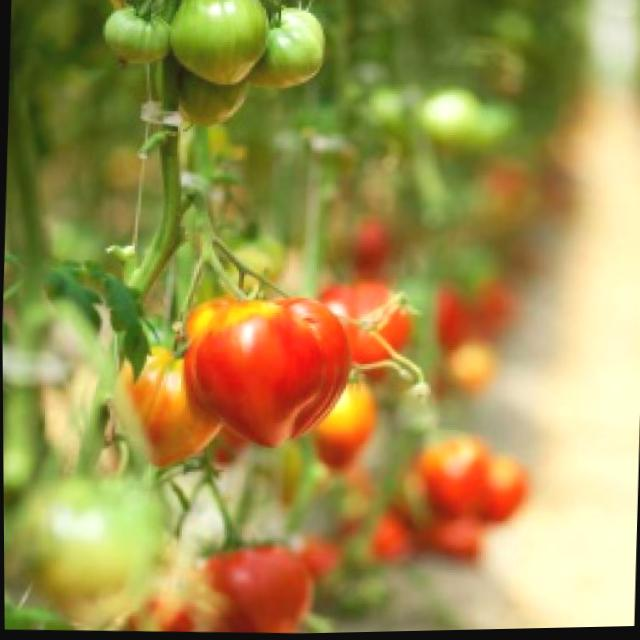tomato: (177, 294, 356, 455)
